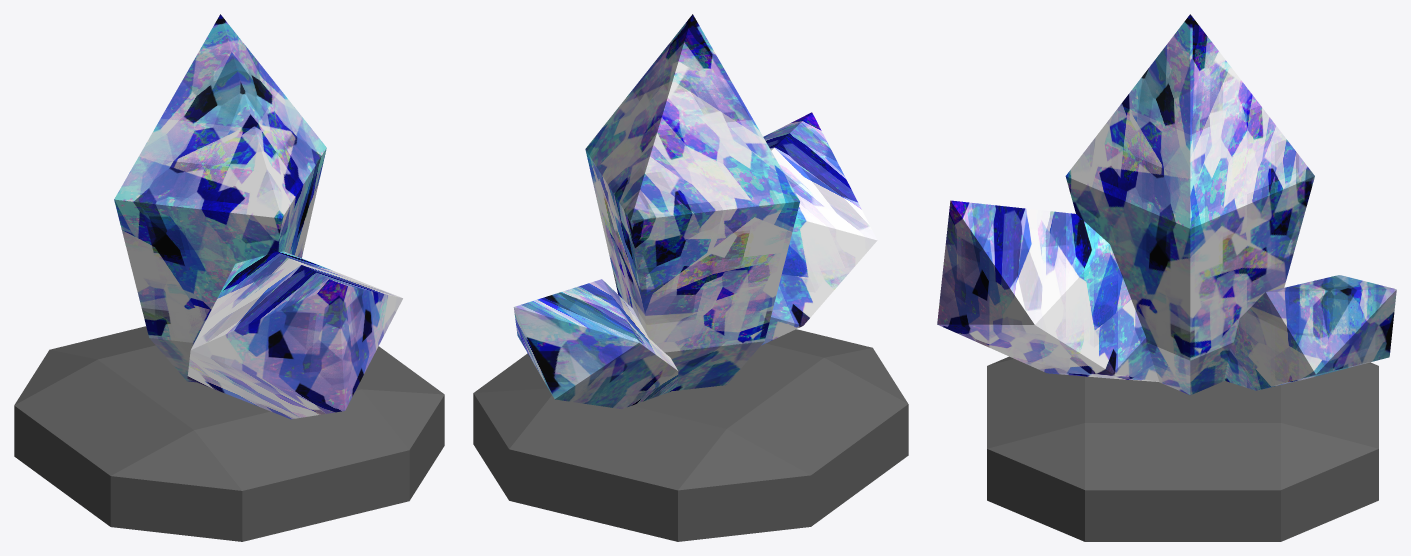
The model's file is diamond_ore.fbx.
3 views of the same model, side by side, from view 1: azimuth 30°, elevation 25°; view 2: azimuth 150°, elevation 25°; view 3: azimuth 270°, elevation 25° (orthographic).
Visible parts, largest first — view 1: pCube4; view 2: pCube4; view 3: pCube4.
Boxes of the visible parts, bbox=[...] form: pCube4: bbox=[14, 14, 444, 541]; pCube4: bbox=[473, 14, 908, 541]; pCube4: bbox=[937, 14, 1396, 541].
Size of the model in its own units: 1 by 1.32 by 1.17.
Materials: 2 (1 with a texture image).
